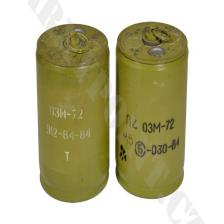OZM-72: (36, 21, 110, 203), (116, 18, 189, 202)
